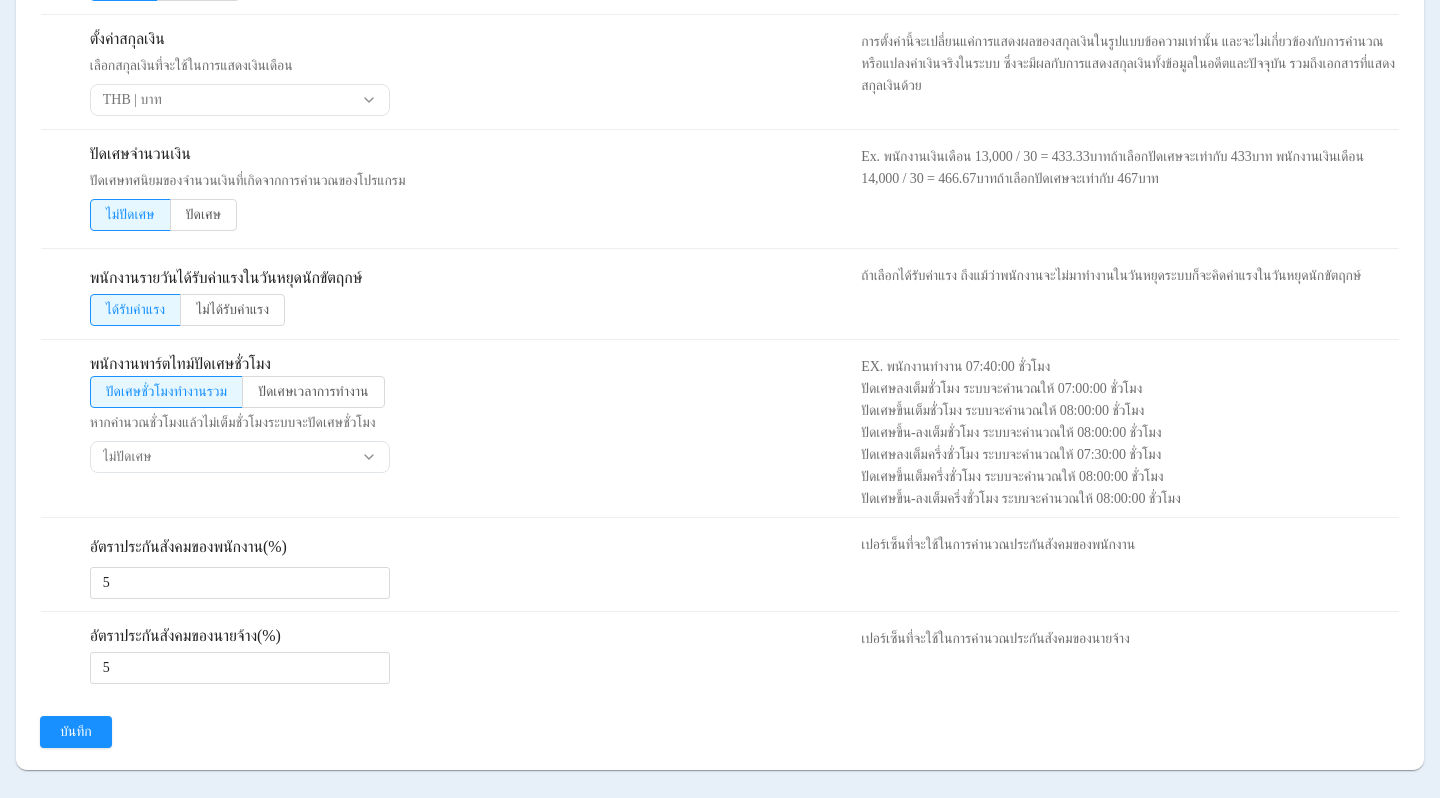
Test: general settings payroll cutoff dropdown › opens the original change-settings dialog when saving
(page scrolled)
Step 1. Click the button "บันทึก" → coordinates (76, 732), box [40,716,112,748]
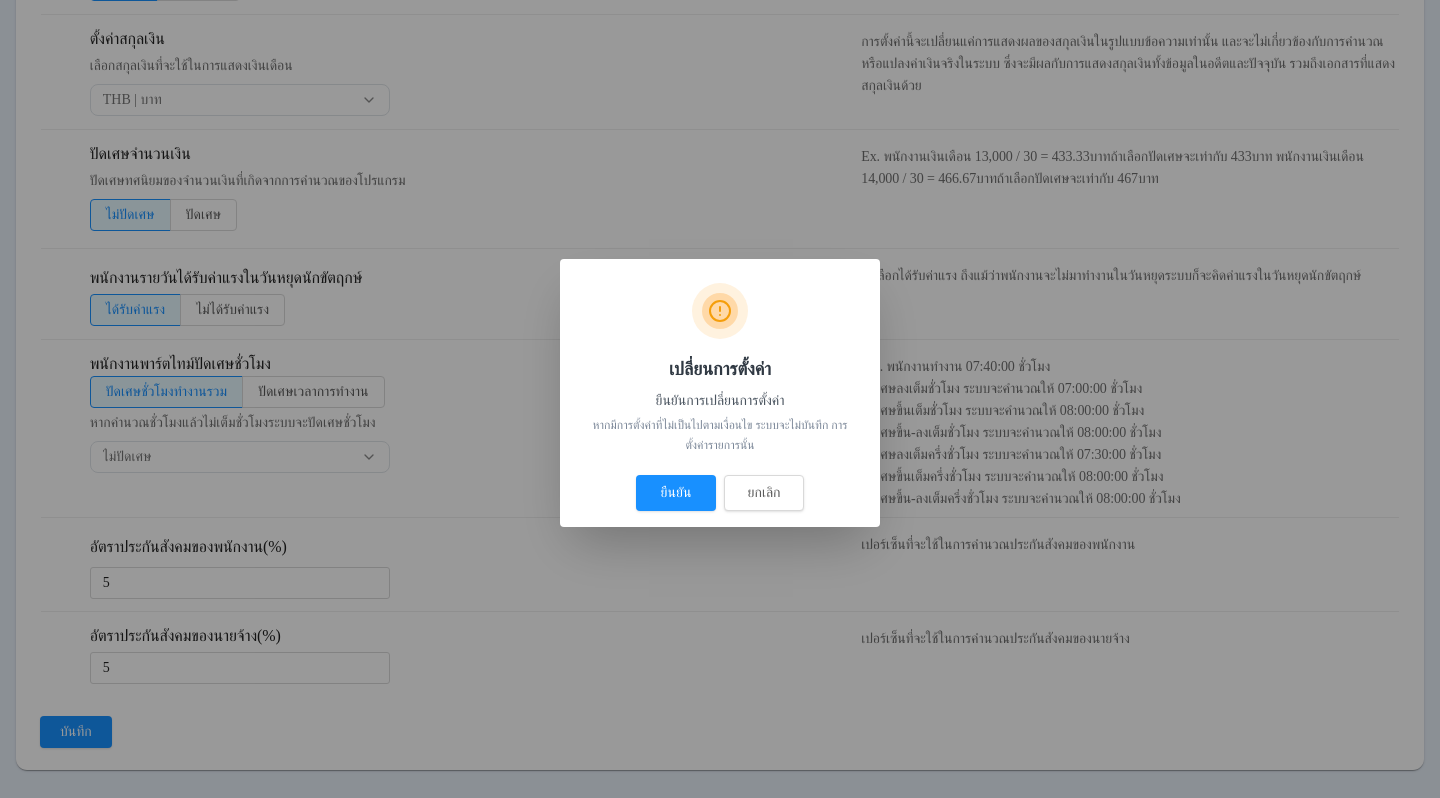
Expected: the dialog "เปลี่ยนการตั้งค่า" is shown, [560,259,880,527]
Expected: the text "ยืนยันการเปลี่ยนการตั้งค่า" is shown, [655,393,784,408]
Expected: the text "หากมีการตั้งค่าที่ไม่เป็นไปตามเงื่อนไข ระบบจะไม่บันทึก การตั้งค่ารายการนั้น" is shown, [592,415,848,455]
